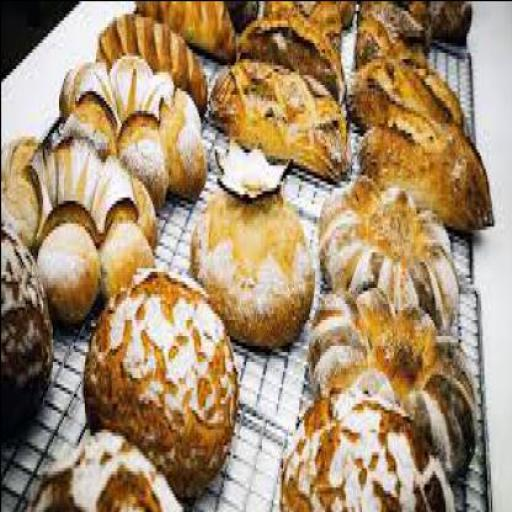biodegradable: (80, 264, 235, 495), (0, 112, 155, 322), (311, 283, 473, 480), (186, 135, 314, 347), (279, 364, 451, 509), (317, 160, 457, 336), (58, 51, 203, 200), (204, 51, 346, 184), (358, 93, 490, 232), (27, 425, 179, 509), (343, 52, 466, 145), (95, 13, 203, 116), (0, 209, 50, 424), (235, 7, 343, 103), (132, 0, 234, 62), (367, 1, 469, 48), (354, 3, 426, 68), (260, 0, 352, 30)
